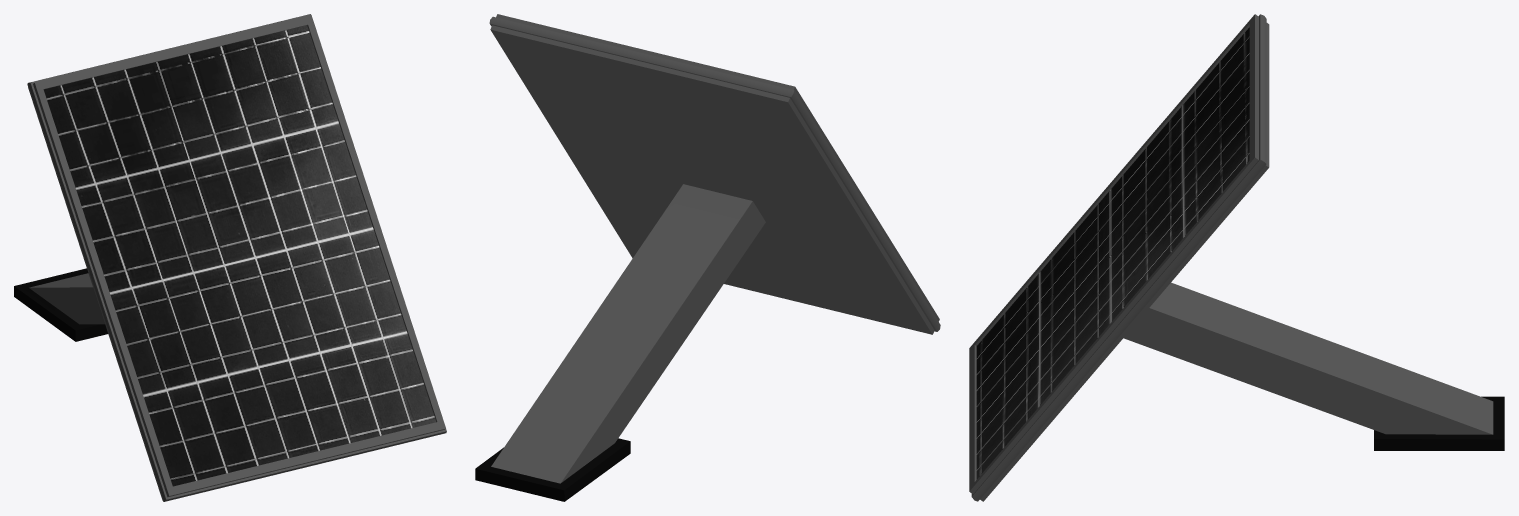
File: solar-Panel2.obj
The picture shows the model from 3 angles, left to right: view 1: azimuth 30°, elevation 25°; view 2: azimuth 150°, elevation 25°; view 3: azimuth 270°, elevation 25°; orthographic projection. The views are drawn at different scales.
Parts seen in each view (by area): view 1: objSolar; view 2: objSolar; view 3: objSolar.
Boxes of the visible parts, x1,y1,x2,y2 form: objSolar: [14, 14, 446, 501]; objSolar: [475, 14, 940, 501]; objSolar: [969, 14, 1504, 501].
Bounding box in the file's own units: 1.76 × 1.94 × 2.73.
